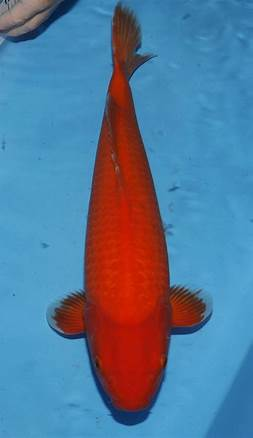red: (45, 1, 213, 413)
